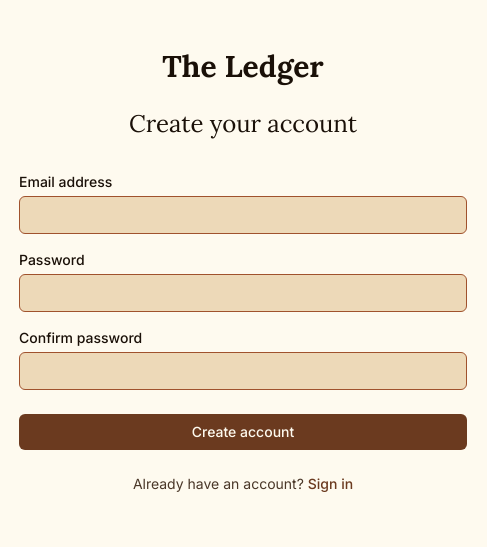
RegisterPage › should display error message on failed registration
Type "existing@example.com" into the field labelled "Email address".
click(243, 215); type("existing@example.com")  # box [19,196,467,234]
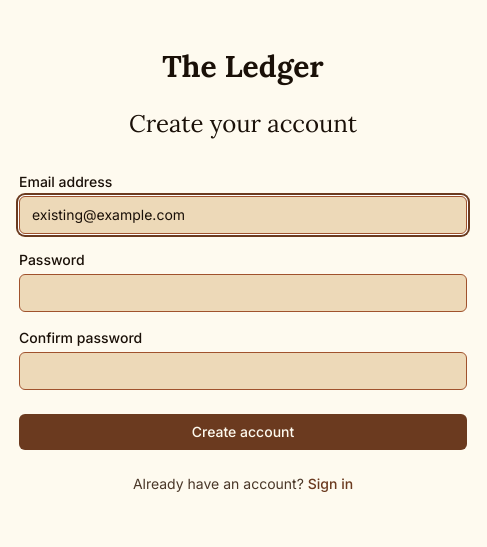
Type "password123" into the password field labelled "Password".
click(243, 293); type("password123")  # box [19,274,467,312]
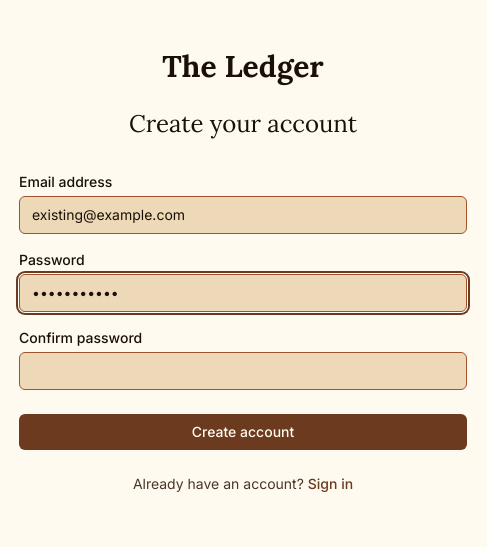
Type "password123" into the password field labelled "Confirm password".
click(243, 371); type("password123")  # box [19,352,467,390]
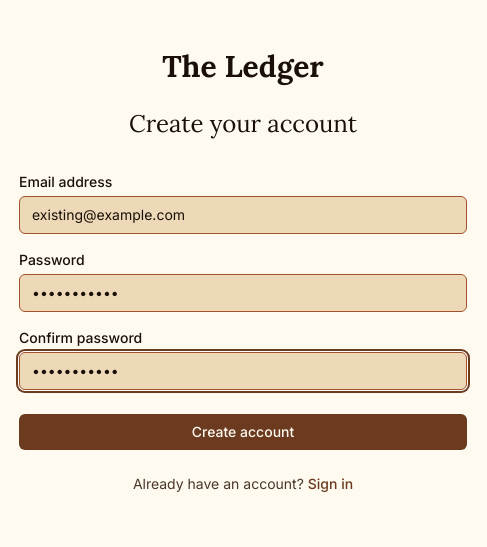
Click the button "Create account".
click(243, 432)  # box [19,414,467,450]
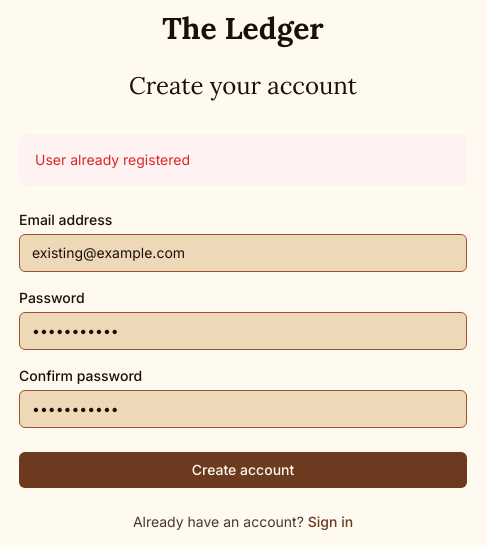
Expected: the text "User already registered" is shown, [19,134,467,186]
